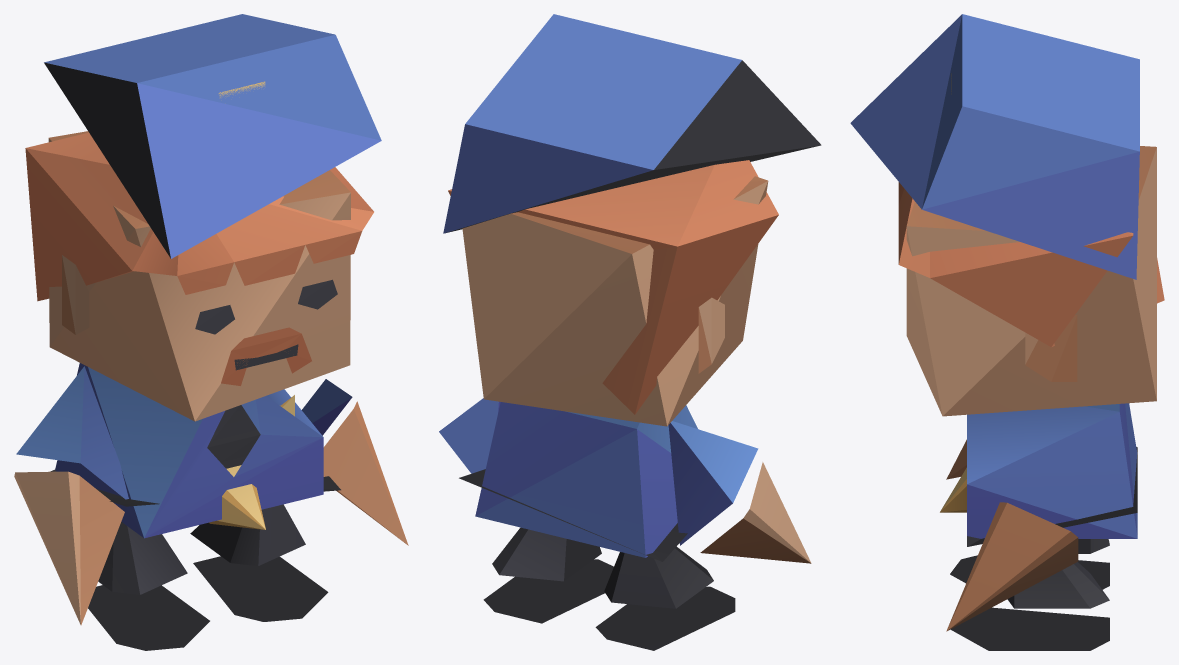
File: person-male-c.glb
3 renders of one model, left to right at view 1: azimuth 30°, elevation 25°; view 2: azimuth 150°, elevation 25°; view 3: azimuth 270°, elevation 25°, orthographic. The views are drawn at different scales.
Visible parts, largest first — view 1: character-male-c; view 2: character-male-c; view 3: character-male-c.
Part boxes in pixels (x1,y1,x2,y2): character-male-c: [14, 14, 408, 650]; character-male-c: [439, 14, 821, 650]; character-male-c: [850, 14, 1164, 650].
Bounding box in the file's own units: 1.18 × 1.95 × 1.02.
